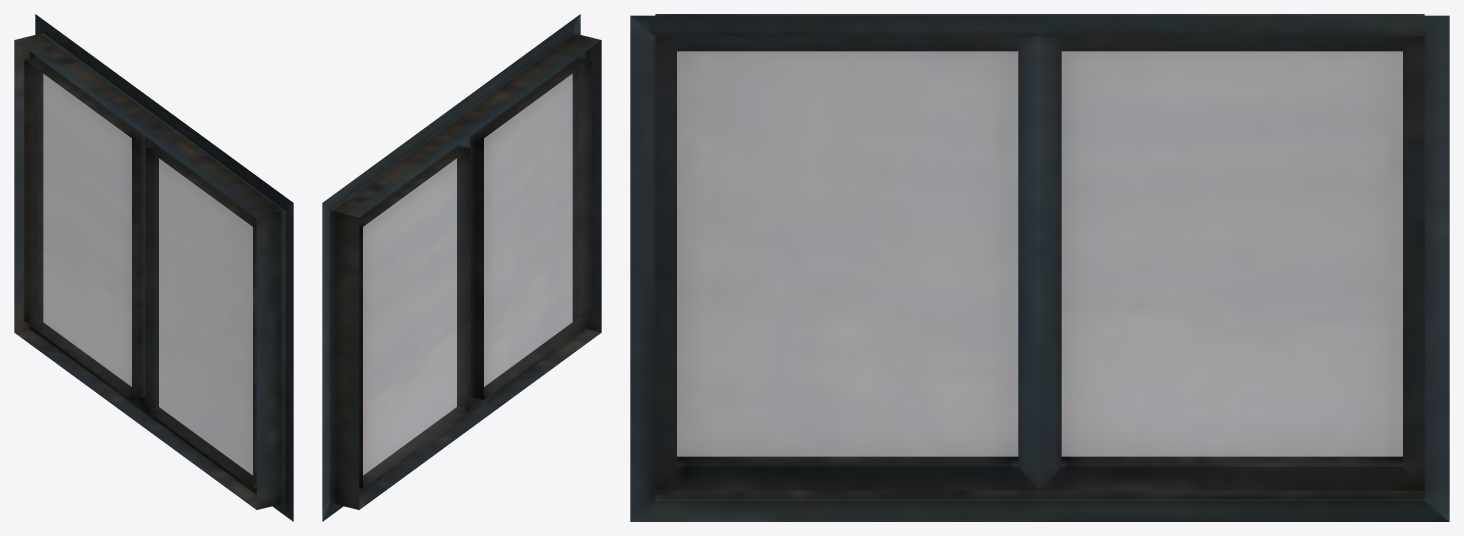
File: DoubleWindow_01.FBX
3 renders of one model, left to right at view 1: azimuth 30°, elevation 25°; view 2: azimuth 150°, elevation 25°; view 3: azimuth 270°, elevation 25°, orthographic. The views are drawn at different scales.
Parts seen in each view (by area): view 1: DoubleWindow_01; view 2: DoubleWindow_01; view 3: DoubleWindow_01.
Boxes of the visible parts, <box> form: DoubleWindow_01: <box>14,14,293,521</box>; DoubleWindow_01: <box>322,14,601,521</box>; DoubleWindow_01: <box>630,14,1449,521</box>.
Bounding box in the file's own units: 13.82 × 145 × 213.
